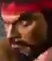ryu: (0, 0, 48, 59)
